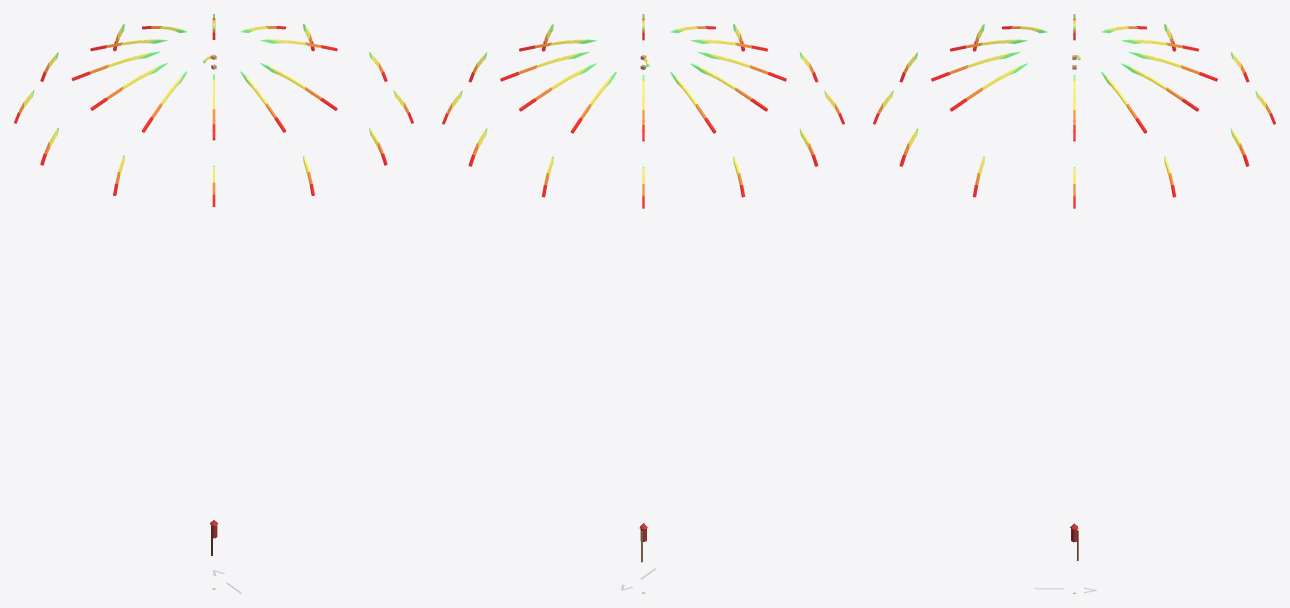
The model's file is Firework_preview.glb.
The picture shows the model from 3 angles, left to right: view 1: azimuth 30°, elevation 25°; view 2: azimuth 150°, elevation 25°; view 3: azimuth 270°, elevation 25°; orthographic projection.
Size of what is drawn, in the model's own units: 12.33 by 18.28 by 12.33.
6 materials, 6 textured.
